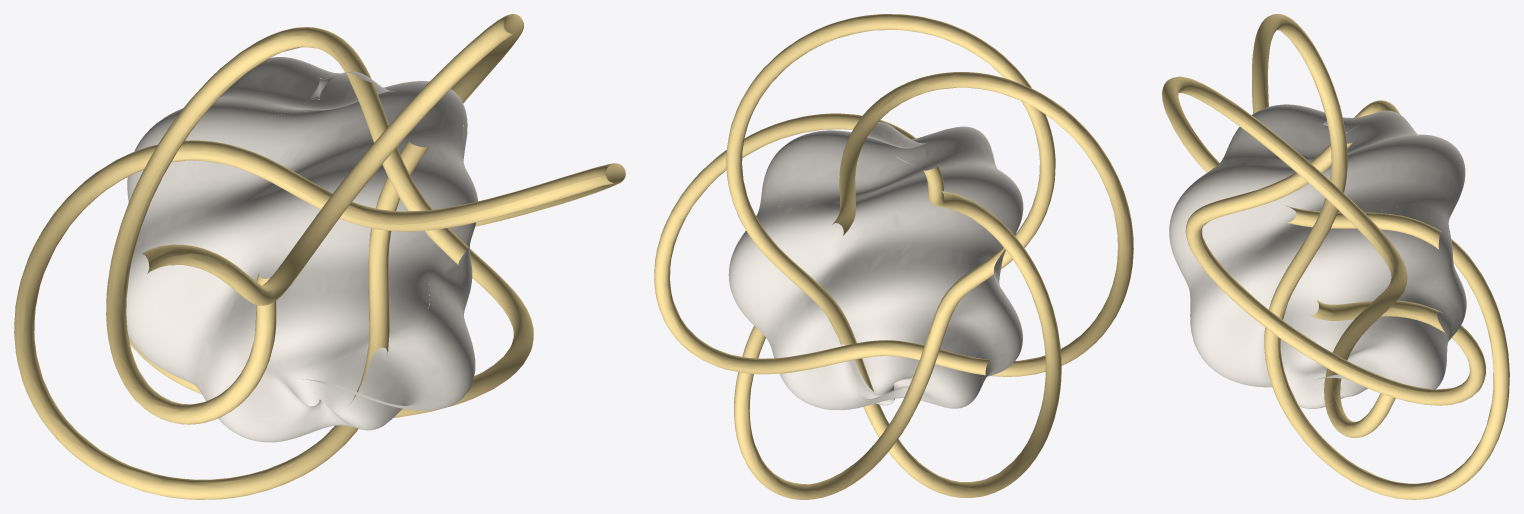
The model's file is sculpture.lod1.glb.
3 renders of one model, left to right at view 1: azimuth 30°, elevation 25°; view 2: azimuth 150°, elevation 25°; view 3: azimuth 270°, elevation 25°, orthographic. The views are drawn at different scales.
Visible parts, largest first — view 1: Body, Orbit; view 2: Body, Orbit; view 3: Body, Orbit.
Part boxes in pixels (x1,y1,x2,y2): Body: (126,57,477,442); Orbit: (14,14,625,499); Body: (728,122,1023,409); Orbit: (654,14,1133,499); Body: (1169,104,1466,408); Orbit: (1162,14,1509,499).
Bounding box in the file's own units: 3.7 × 3.24 × 2.56.
